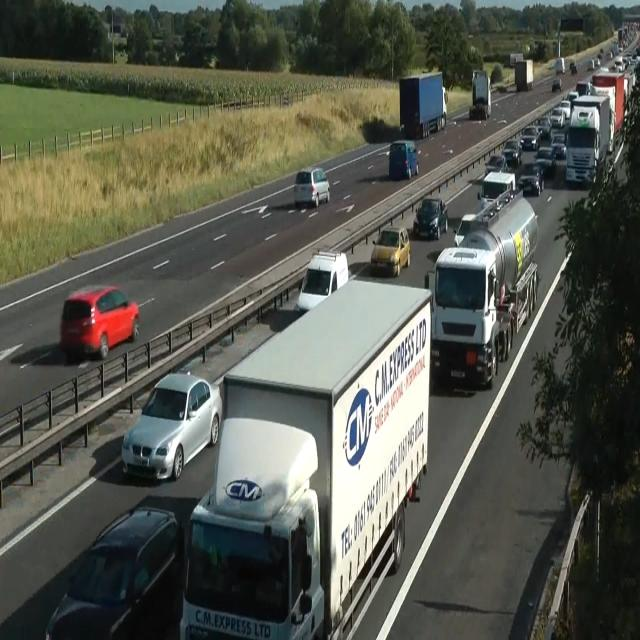bus: (121, 370, 223, 482), (59, 284, 140, 360), (370, 225, 410, 277), (412, 196, 448, 240), (294, 166, 330, 207), (387, 140, 419, 180), (534, 147, 556, 174), (501, 138, 522, 166), (484, 154, 508, 177), (520, 126, 540, 150), (534, 116, 552, 138), (550, 134, 566, 158), (549, 107, 565, 128), (559, 100, 571, 120), (587, 57, 601, 70), (552, 78, 562, 92), (567, 91, 579, 101), (569, 61, 577, 74), (547, 59, 555, 69)
car: (424, 188, 538, 388)
jeep: (45, 502, 183, 638), (297, 248, 349, 313), (478, 170, 516, 207), (518, 162, 544, 196)
minibus: (179, 277, 433, 639), (564, 92, 612, 188), (398, 71, 448, 139), (591, 71, 626, 150), (469, 69, 491, 119), (515, 60, 533, 90), (509, 52, 524, 68), (555, 57, 565, 74)
